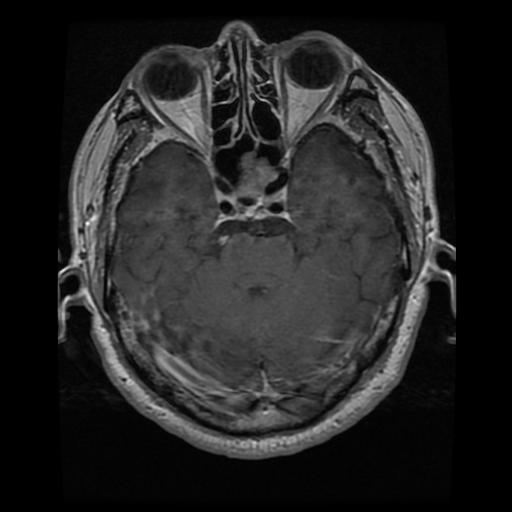Pituirity_tumour: (238, 157, 277, 194)
